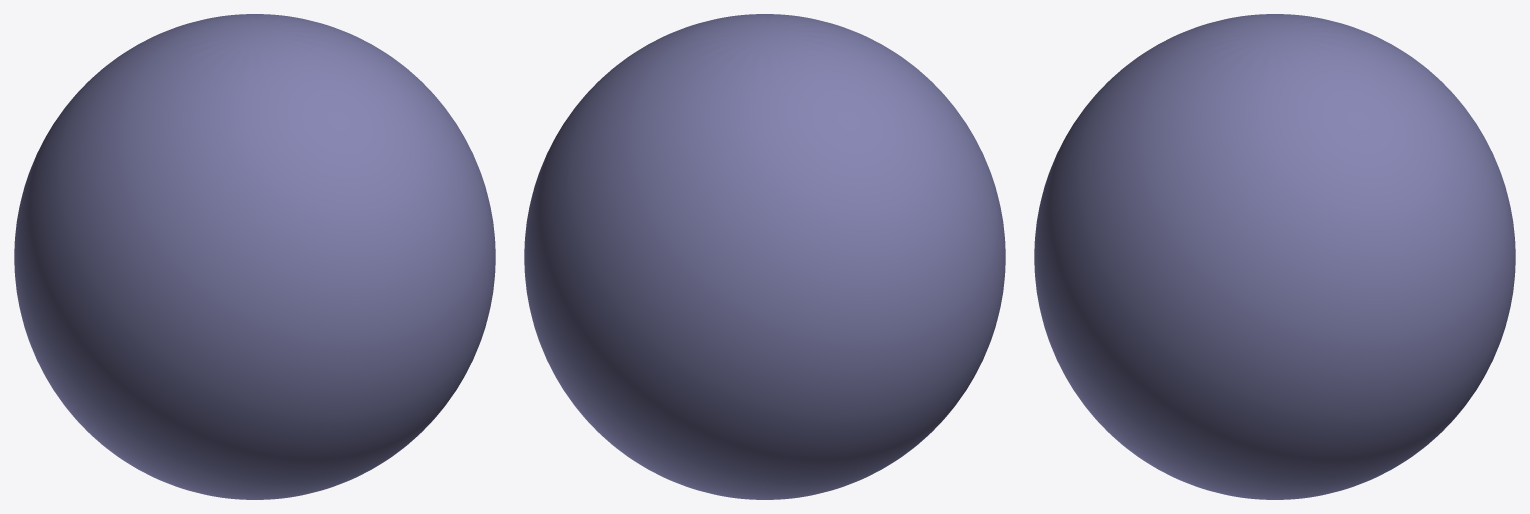
File: PurpleChar.fbx
The picture shows the model from 3 angles, left to right: view 1: azimuth 30°, elevation 25°; view 2: azimuth 150°, elevation 25°; view 3: azimuth 270°, elevation 25°; orthographic projection.
Parts seen in each view (by area): view 1: Sphere; view 2: Sphere; view 3: Sphere.
Part boxes in pixels (<box>): Sphere: <box>14,14,495,499</box>; Sphere: <box>524,14,1005,499</box>; Sphere: <box>1034,14,1515,499</box>.
Size of the model in its own units: 195 by 199 by 195.
